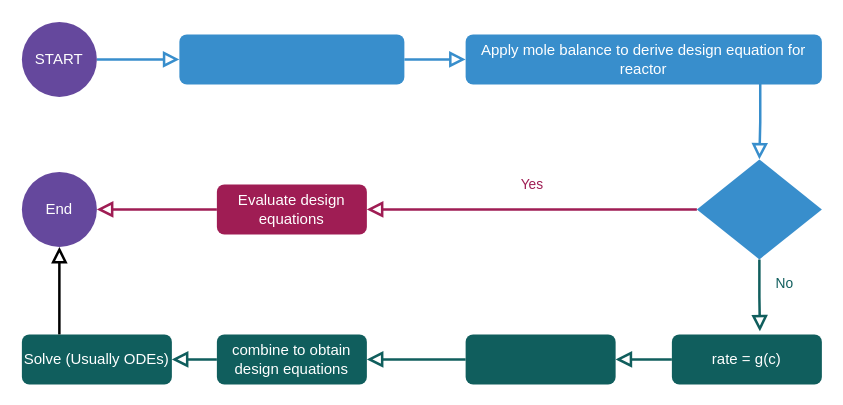
Image size: 843x405. Some labels were removed from this diagram. Here are the shapes that lost their labels. From the top down, the centre of each, then its label:
the point at 291,59: General mole balance
the point at 758,209: Is rate = f(X)
the point at 540,359: Stoichiometry
